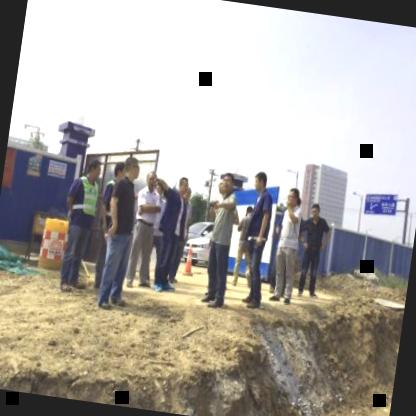head: (248, 165, 270, 196), (122, 152, 143, 180), (172, 172, 192, 198), (84, 156, 104, 180), (110, 158, 127, 186), (142, 167, 159, 192), (284, 185, 302, 208), (218, 170, 235, 194), (308, 198, 322, 221)
